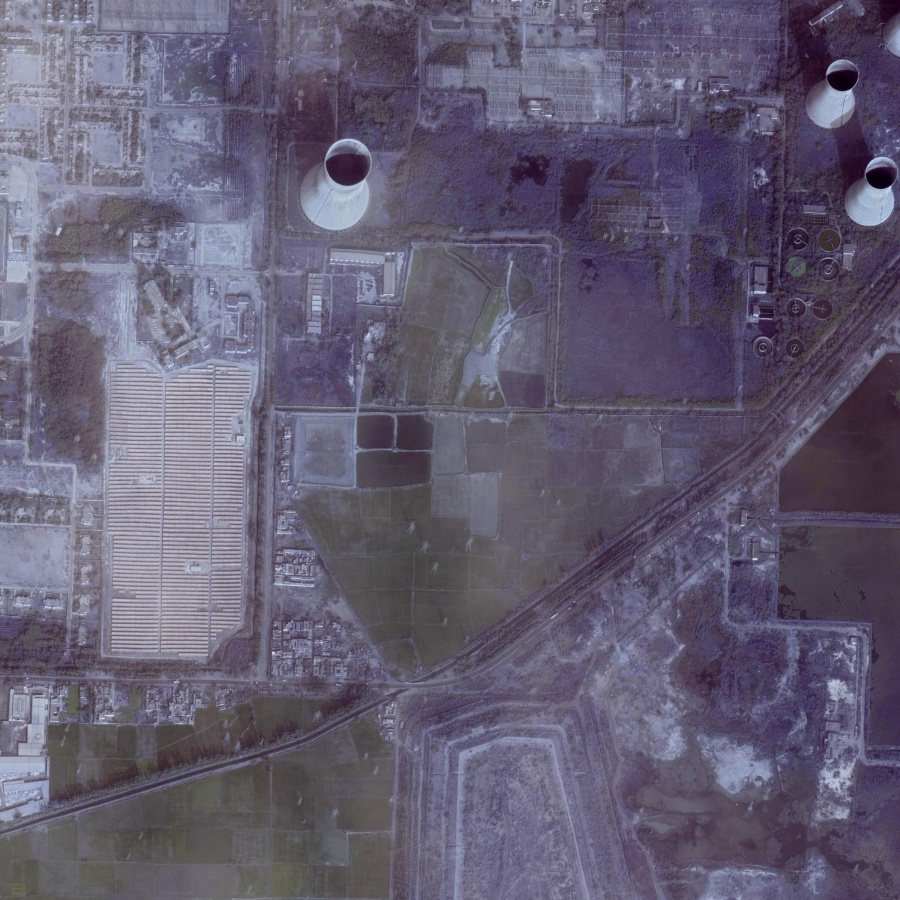PowerPlant: (280, 126, 524, 400)
